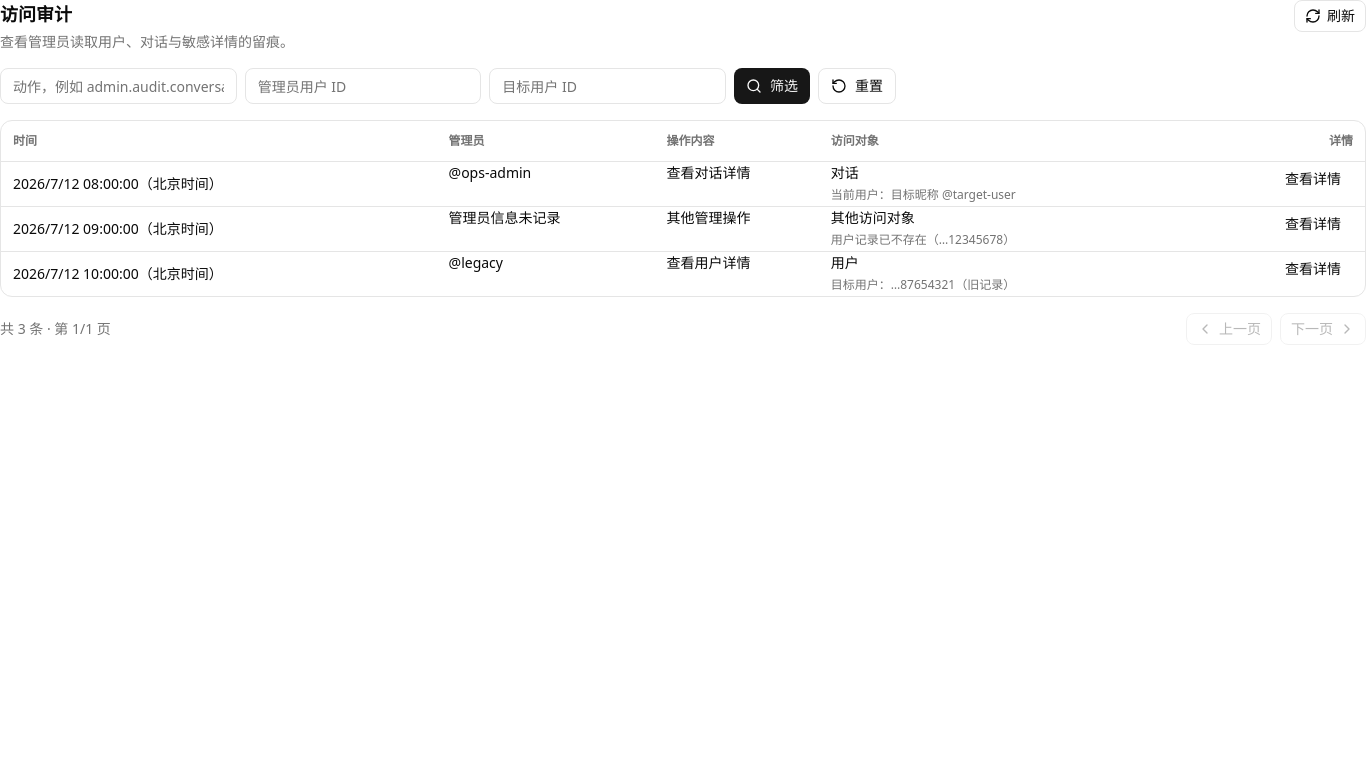
Test: AdminAuditEventsPanel › 访问审计主表和详情任何位置都不展示管理员或目标用户邮箱
Check: the table named "管理员访问审计记录" is shown, box x1=1 y1=121 x2=1365 y2=296
Click the button with aria-label "查看审计详情 event-11111111-1111-1111-1111-111111111111".
click(1313, 179)  # box x1=1273 y1=163 x2=1353 y2=195
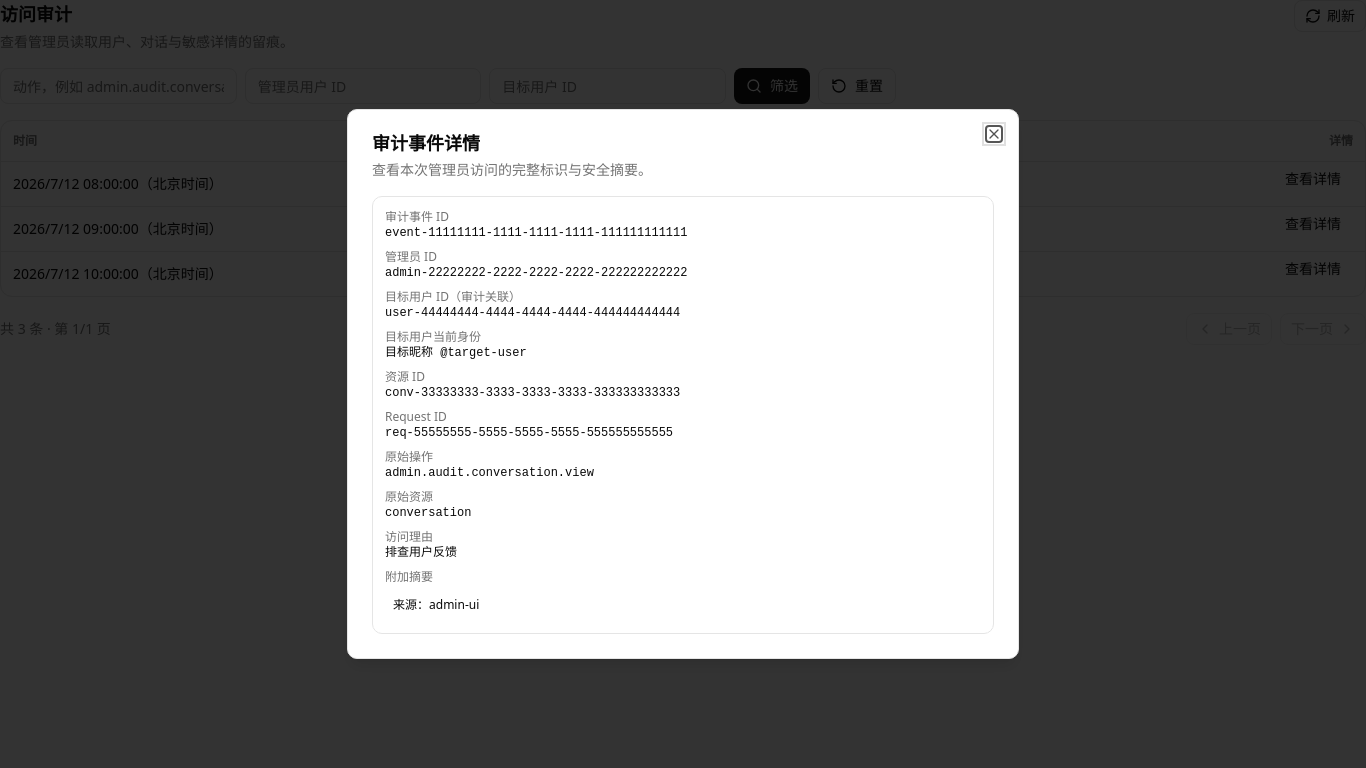
Check: the dialog "审计事件详情" is shown, box x1=347 y1=109 x2=1019 y2=659
